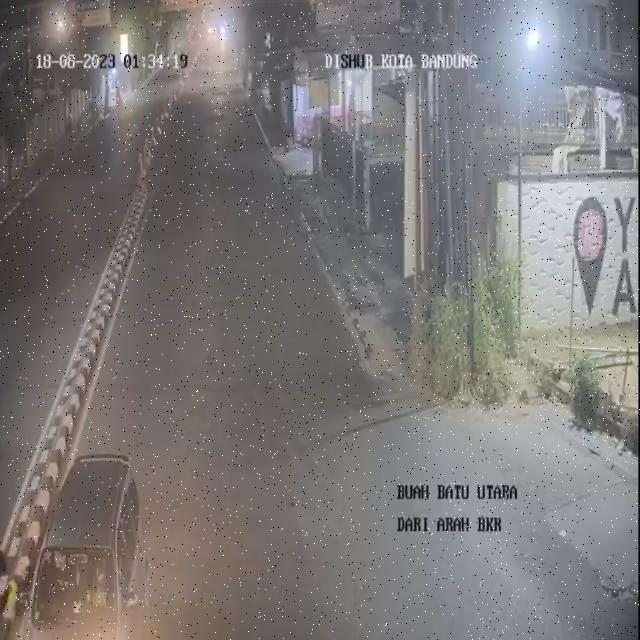cars: (28, 442, 150, 637)
